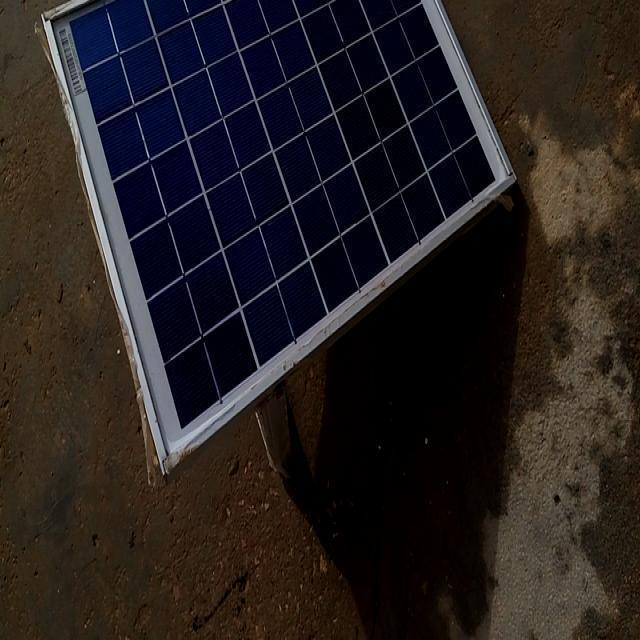Normal Solar Panel: (44, 0, 516, 472)
